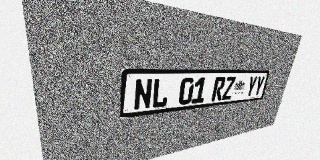0: (178, 77, 195, 105)
1: (191, 77, 207, 104)
L: (151, 78, 170, 108)
N: (133, 78, 153, 111)
R: (211, 77, 226, 101)
Y: (245, 76, 258, 97), (253, 76, 265, 96)
Z: (221, 77, 236, 100)
